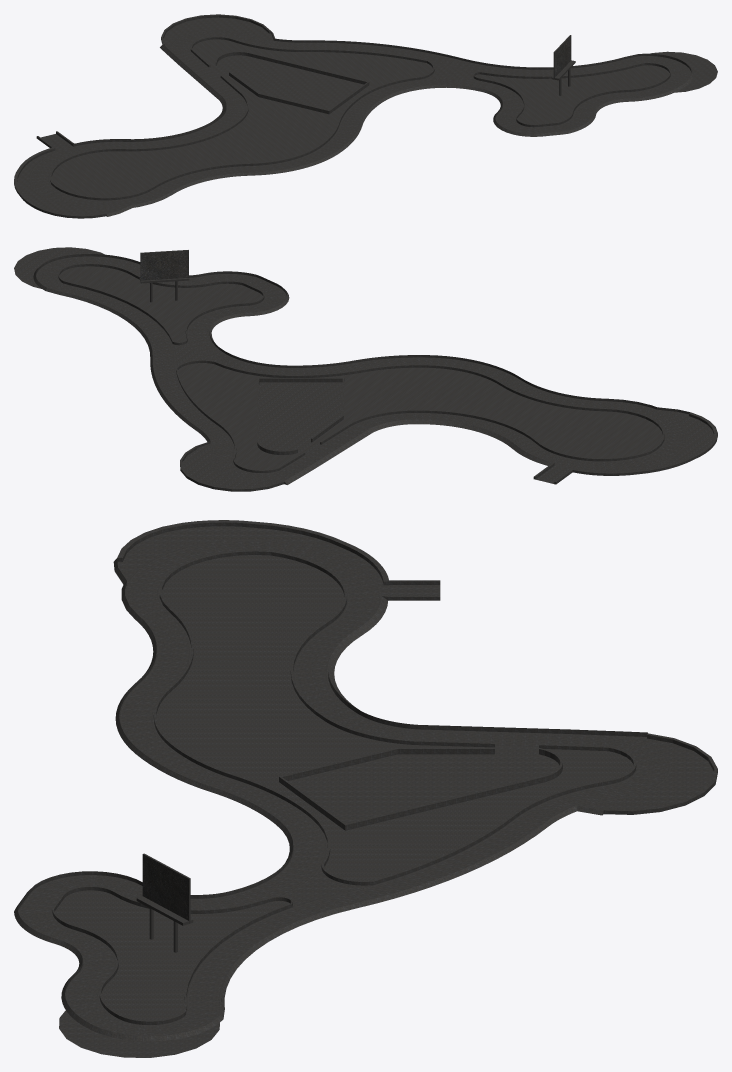
The model's file is tougeteam.glb.
3 renders of one model, top to bottom at view 1: azimuth 30°, elevation 25°; view 2: azimuth 150°, elevation 25°; view 3: azimuth 270°, elevation 25°, orthographic. The views are drawn at different scales.
Parts seen in each view (by area): view 1: tougeteam; view 2: tougeteam; view 3: tougeteam.
Boxes of the visible parts, x1,y1,x2,y2 form: tougeteam: [14, 14, 717, 218]; tougeteam: [14, 247, 717, 491]; tougeteam: [14, 520, 717, 1057].
Size of the model in its own units: 435 by 29.51 by 242.
Materials: 1 (1 with a texture image).
